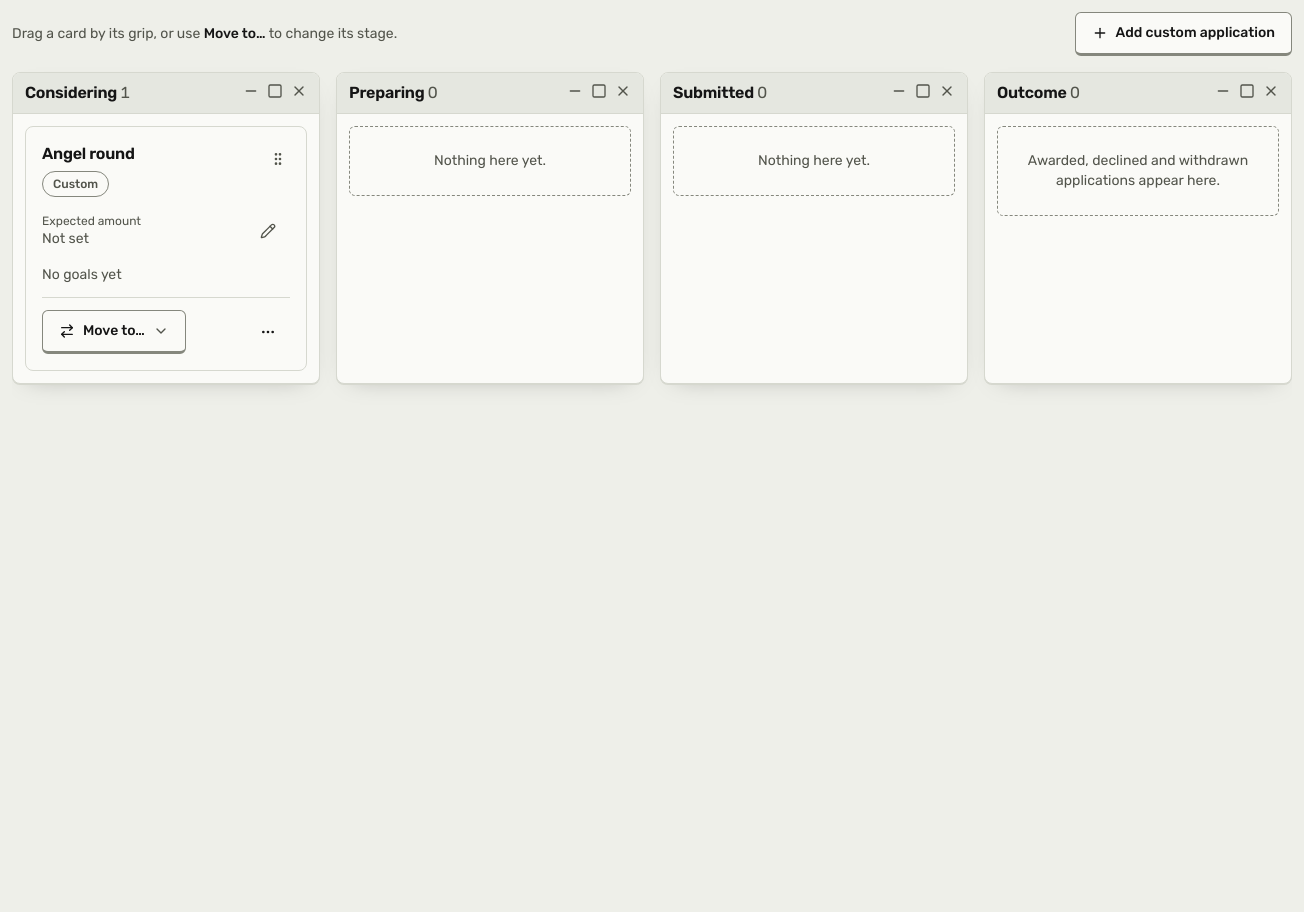
Test case: PipelineBoard milestone cheers › is supportive after a decline, without confetti
Click the button with aria-label "Move Angel round to…" at (114, 332), box [42,310,186,354]
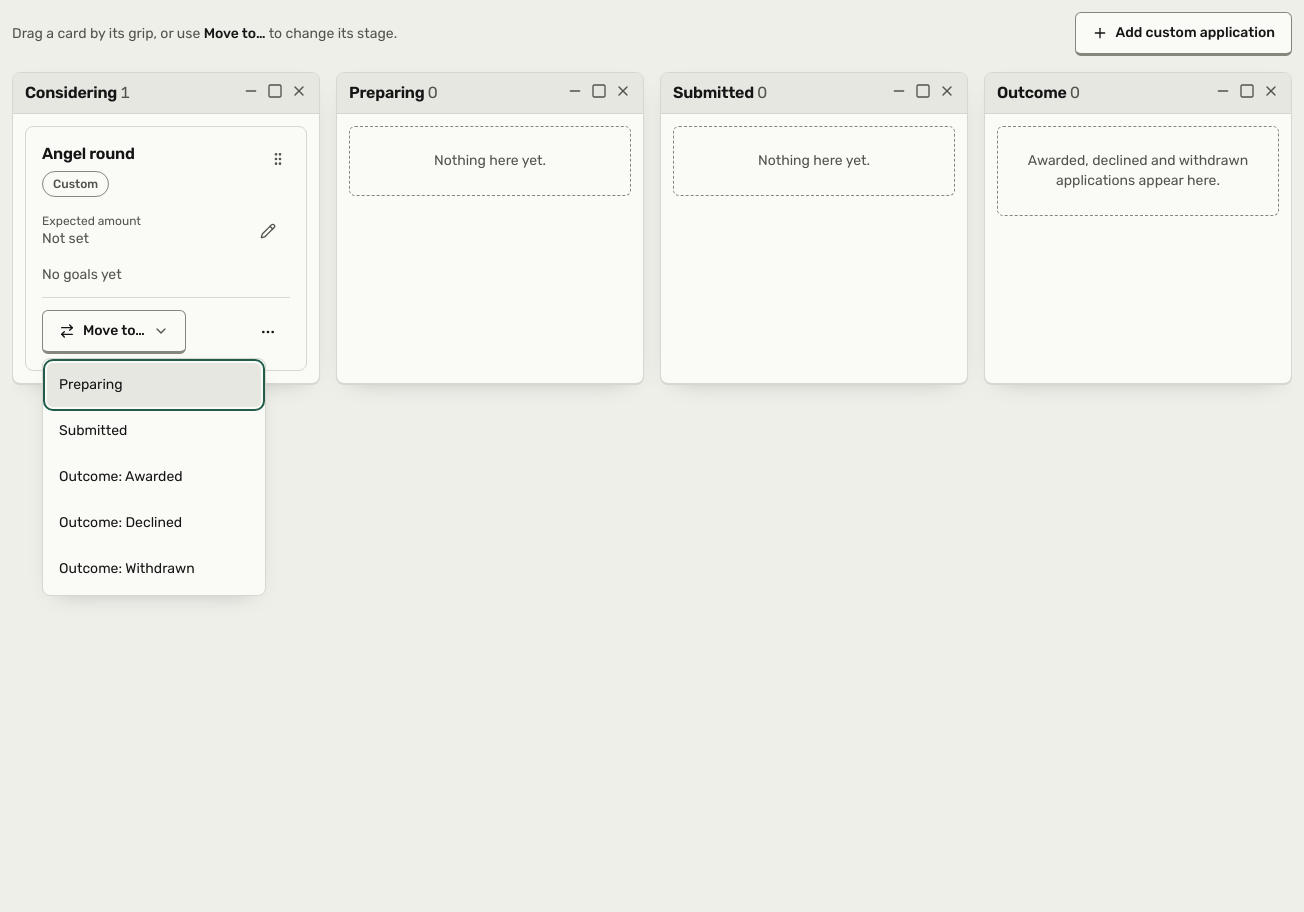
Click the menu item "Outcome: Declined" at (154, 523), box [47,501,261,545]
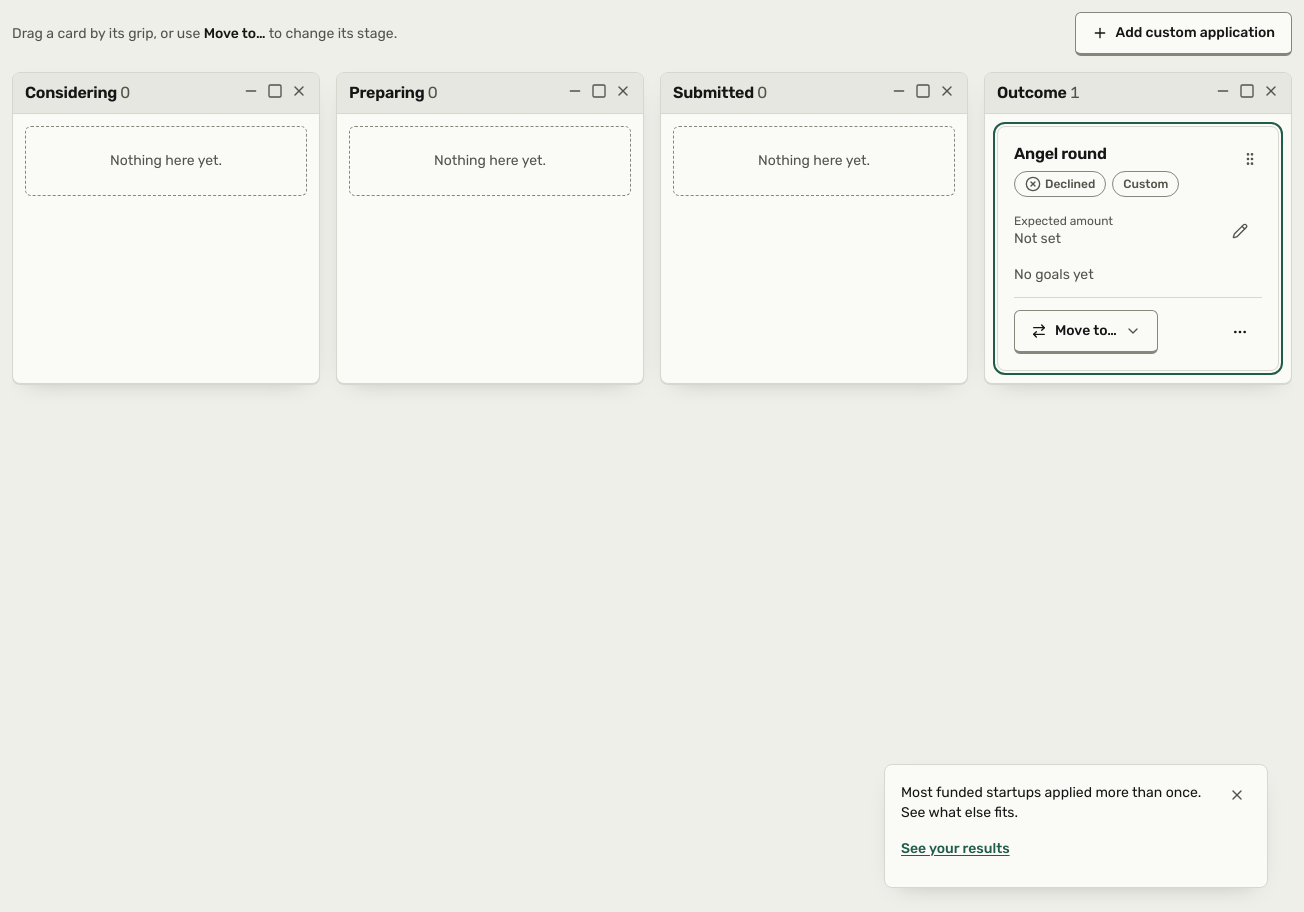
Check: the text "Most funded startups applied more than once. See what else fits." is shown, box [901,783,1211,823]
